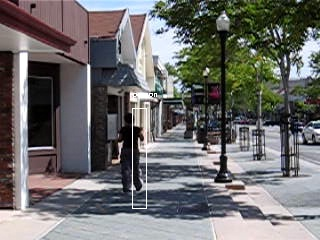person: (119, 112, 145, 194), (118, 112, 144, 194), (120, 112, 146, 194), (119, 111, 145, 193), (119, 113, 145, 195)
target_negative: (49, 48, 277, 179), (25, 213, 287, 227), (170, 161, 196, 200), (219, 147, 235, 192), (302, 98, 316, 112), (265, 134, 272, 152)
